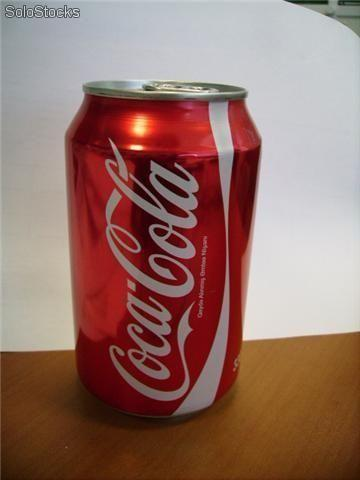metal: (65, 80, 262, 418)
